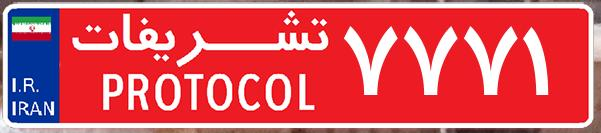1: (520, 20, 580, 115)
7: (340, 20, 400, 115), (400, 20, 460, 115), (460, 20, 520, 115)
تشریفات: (60, 8, 340, 125)
